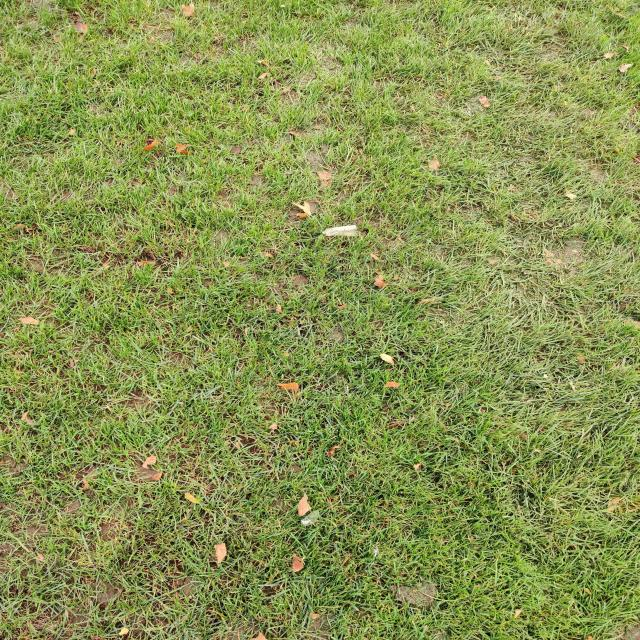litter: (317, 223, 365, 240)
